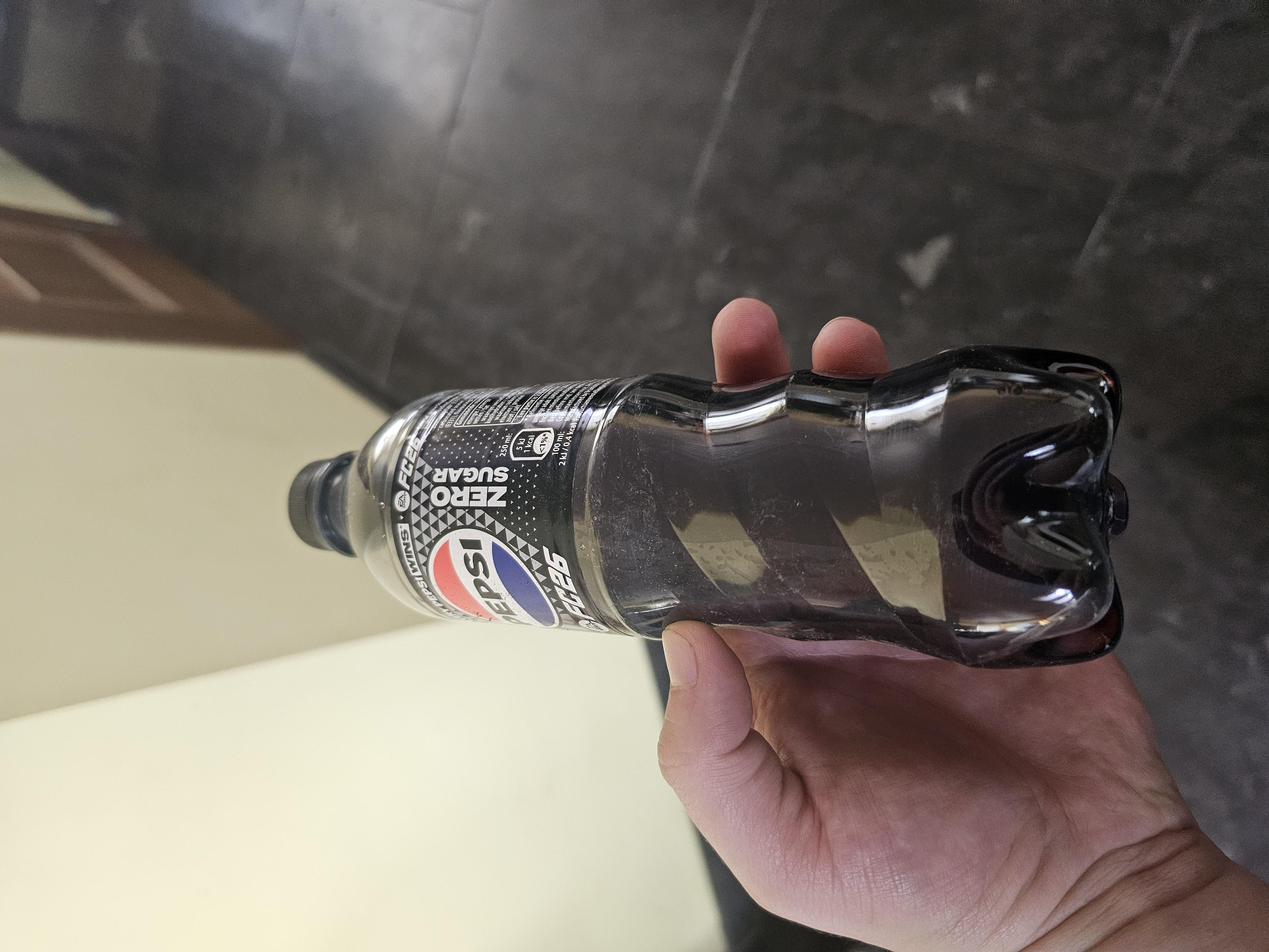Plastic: (364, 214, 800, 845)
